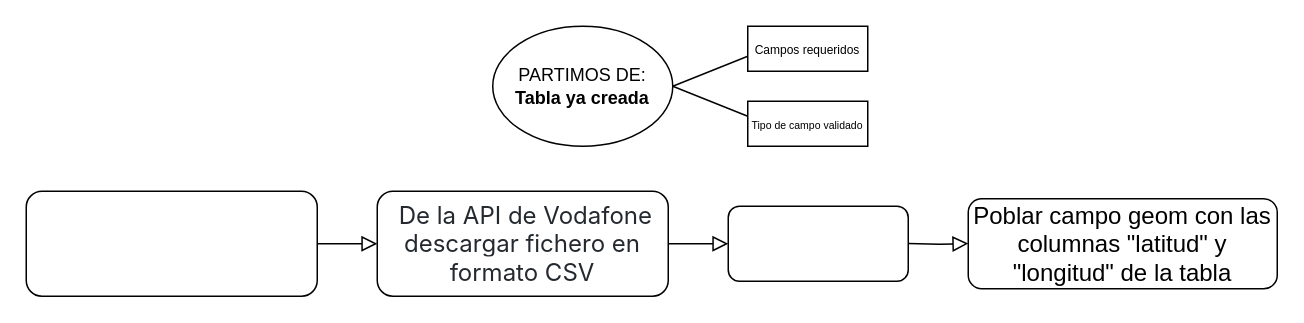
The diagram is 1304 pixels wide and 323 high, and some of its shapes have lost their labels. Here are the shapes that lost their labels. From the top down, the centre of each, then its label:
At (171,243): "Borramos el contenido de la tabla (mes anterior)".
At (817,243): "Cargar el fichero CSV a la tabla".
